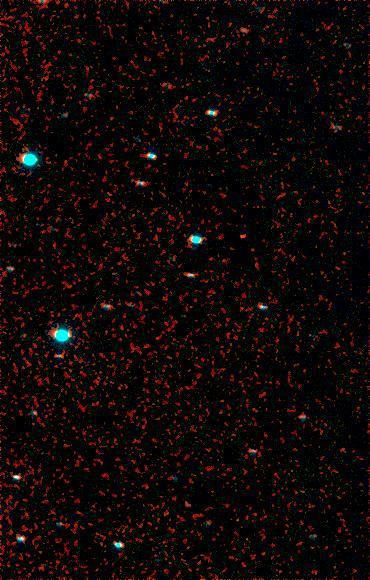star: (228, 221, 258, 251)
